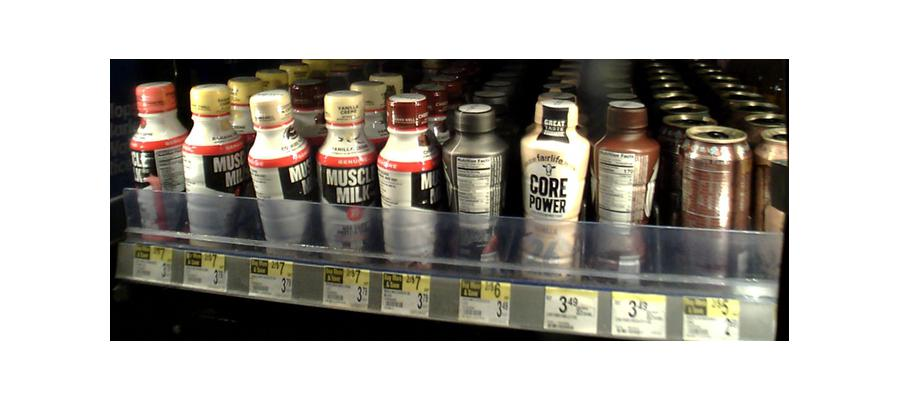bottle: (518, 94, 589, 275), (592, 103, 660, 280), (676, 122, 745, 280), (247, 94, 315, 251), (380, 98, 442, 267), (444, 103, 506, 269), (185, 84, 247, 243), (319, 91, 377, 257), (130, 82, 183, 241), (755, 124, 789, 293)
